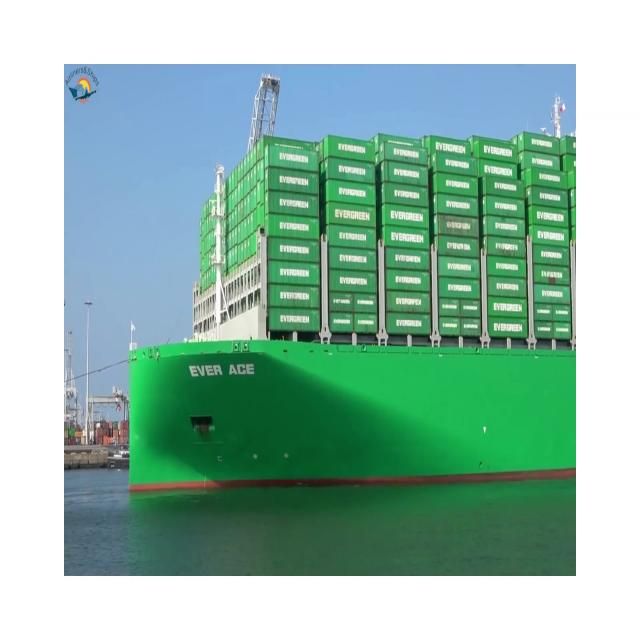OCR: (183, 353, 262, 391)
